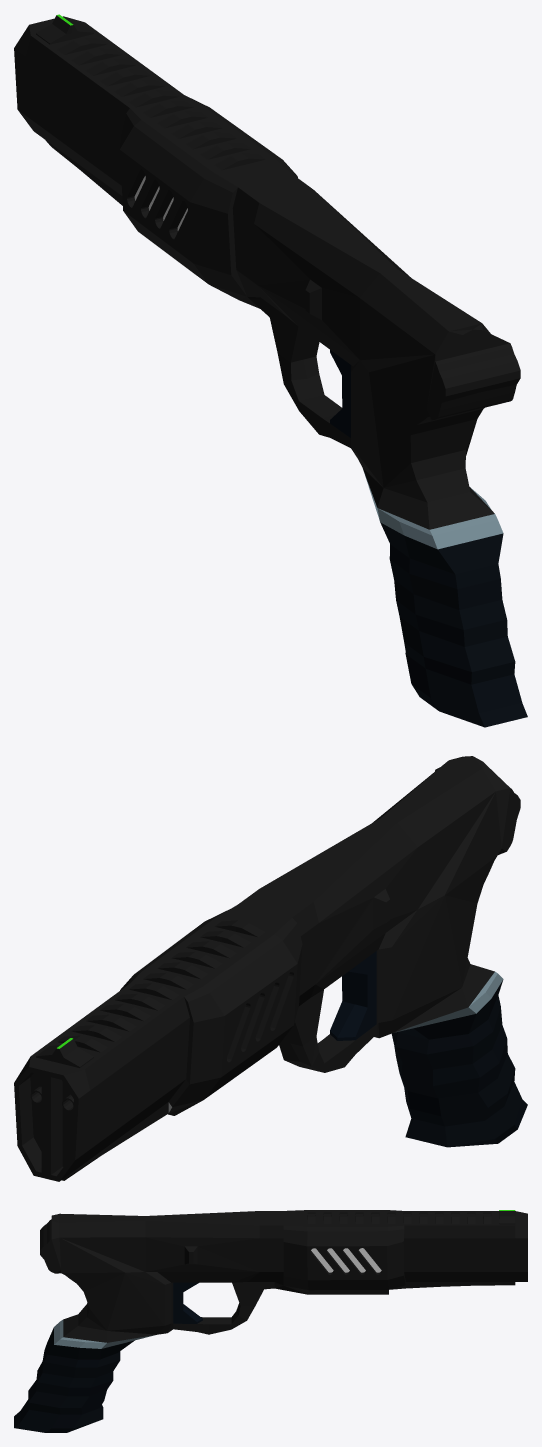
File: Plasma_Gun_mk_1.fbx
The picture shows the model from 3 angles, top to bottom: view 1: azimuth 30°, elevation 25°; view 2: azimuth 150°, elevation 25°; view 3: azimuth 270°, elevation 25°; orthographic projection. The views are drawn at different scales.
Parts seen in each view (by area): view 1: Pistol_Mk_1; view 2: Pistol_Mk_1; view 3: Pistol_Mk_1.
Boxes of the visible parts, <box> form: Pistol_Mk_1: <box>14,14,527,727</box>; Pistol_Mk_1: <box>14,756,527,1181</box>; Pistol_Mk_1: <box>14,1210,527,1432</box>.
Bounding box in the file's own units: 30.03 × 4.05 × 13.7.
